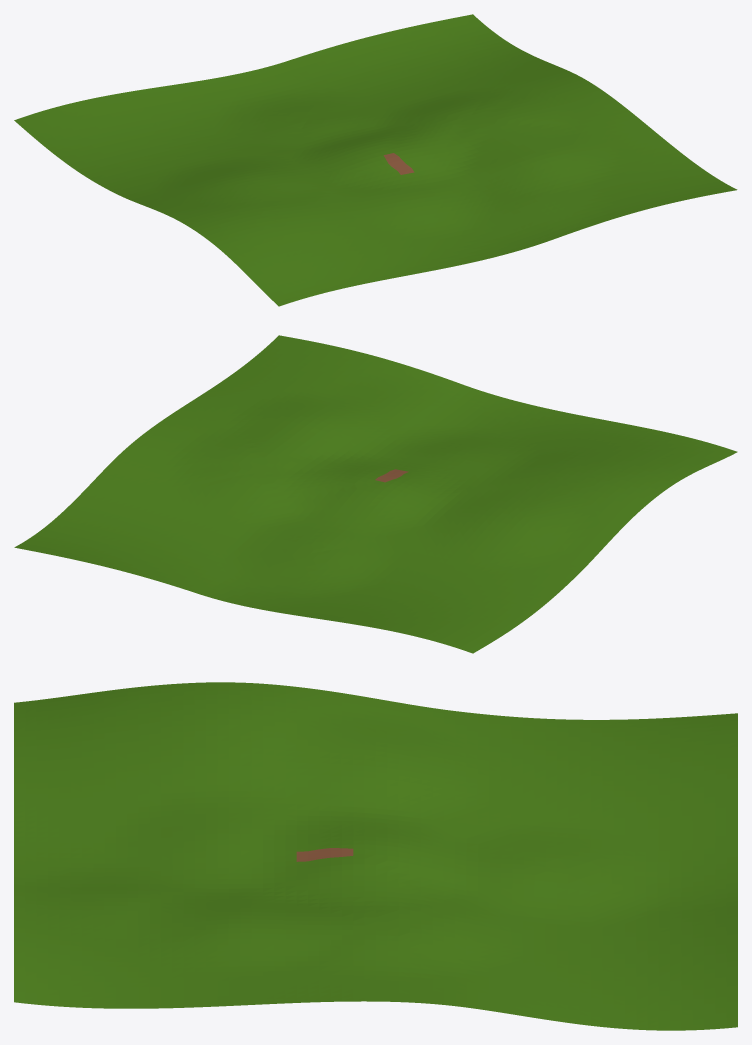
The model's file is ground.glb.
The picture shows the model from 3 angles, top to bottom: view 1: azimuth 30°, elevation 25°; view 2: azimuth 150°, elevation 25°; view 3: azimuth 270°, elevation 25°; orthographic projection. The views are drawn at different scales.
Visible parts, largest first — view 1: Ground; view 2: Ground; view 3: Ground.
Boxes of the visible parts, x1,y1,x2,y2 form: Ground: (14, 14, 737, 306); Ground: (14, 335, 737, 653); Ground: (14, 682, 737, 1030).
Size of the model in its own units: 80.03 by 6.09 by 80.01.
1 material, 1 textured.
